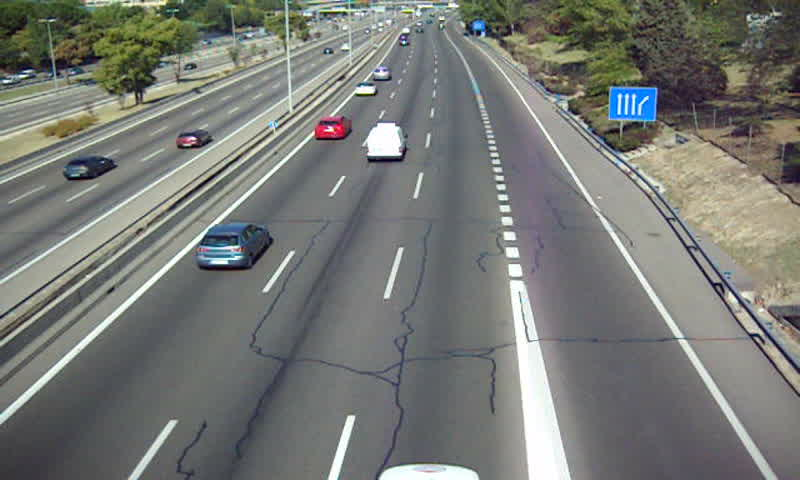car: (195, 223, 270, 270), (315, 117, 351, 140), (354, 82, 377, 95), (373, 66, 390, 81)
van: (365, 122, 405, 160)
